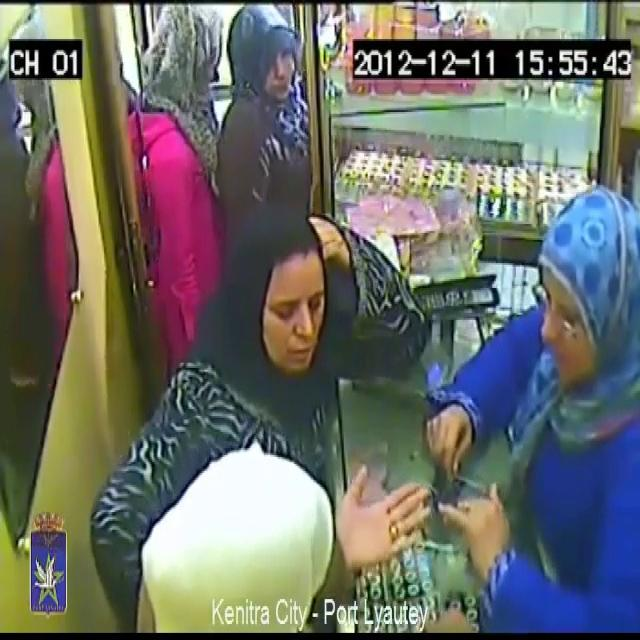Product: (383, 504, 413, 550)
normal: (464, 151, 640, 640), (138, 0, 252, 305), (226, 190, 350, 396), (238, 1, 333, 192)
shoplifting: (134, 410, 462, 640)
